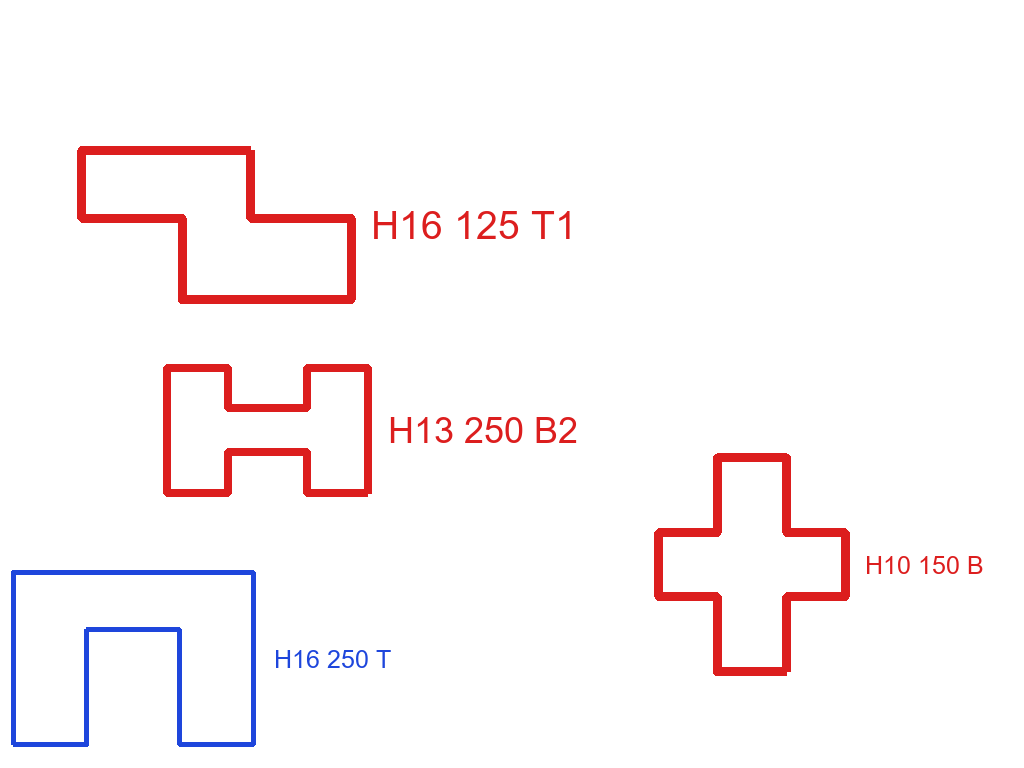shape: (75, 144, 358, 306), (652, 451, 852, 678), (9, 568, 258, 749), (162, 361, 374, 499)
text: (369, 209, 579, 241), (386, 415, 580, 445), (863, 554, 986, 576), (272, 648, 393, 670)
